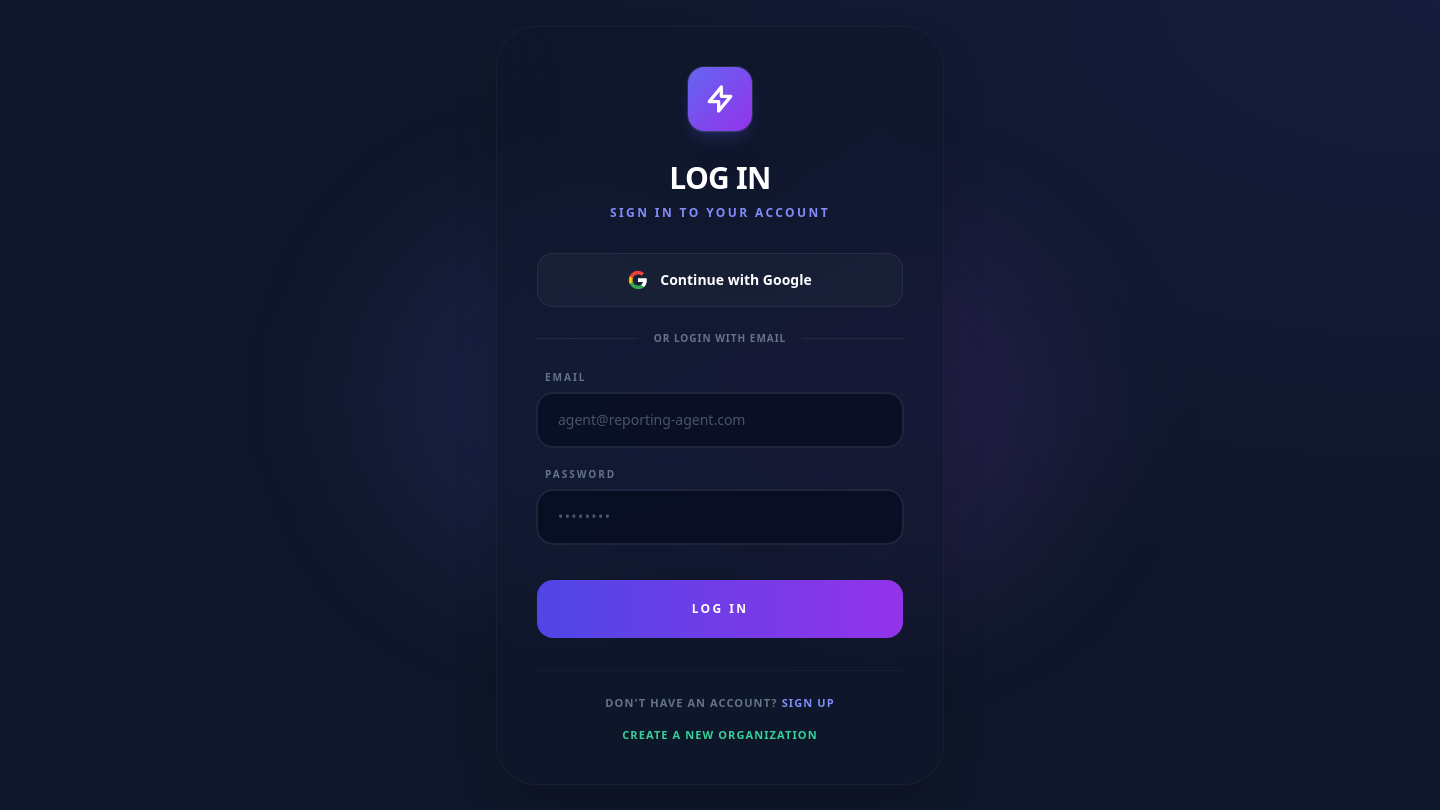
Scenario: Auth view unit tests › shows login error for invalid credentials
The width and height of the screenshot is (1440, 810).
Type "bad@test.com" into the field with placeholder "agent@reporting-agent.com" at point(720, 420), box [537,392,903,446]
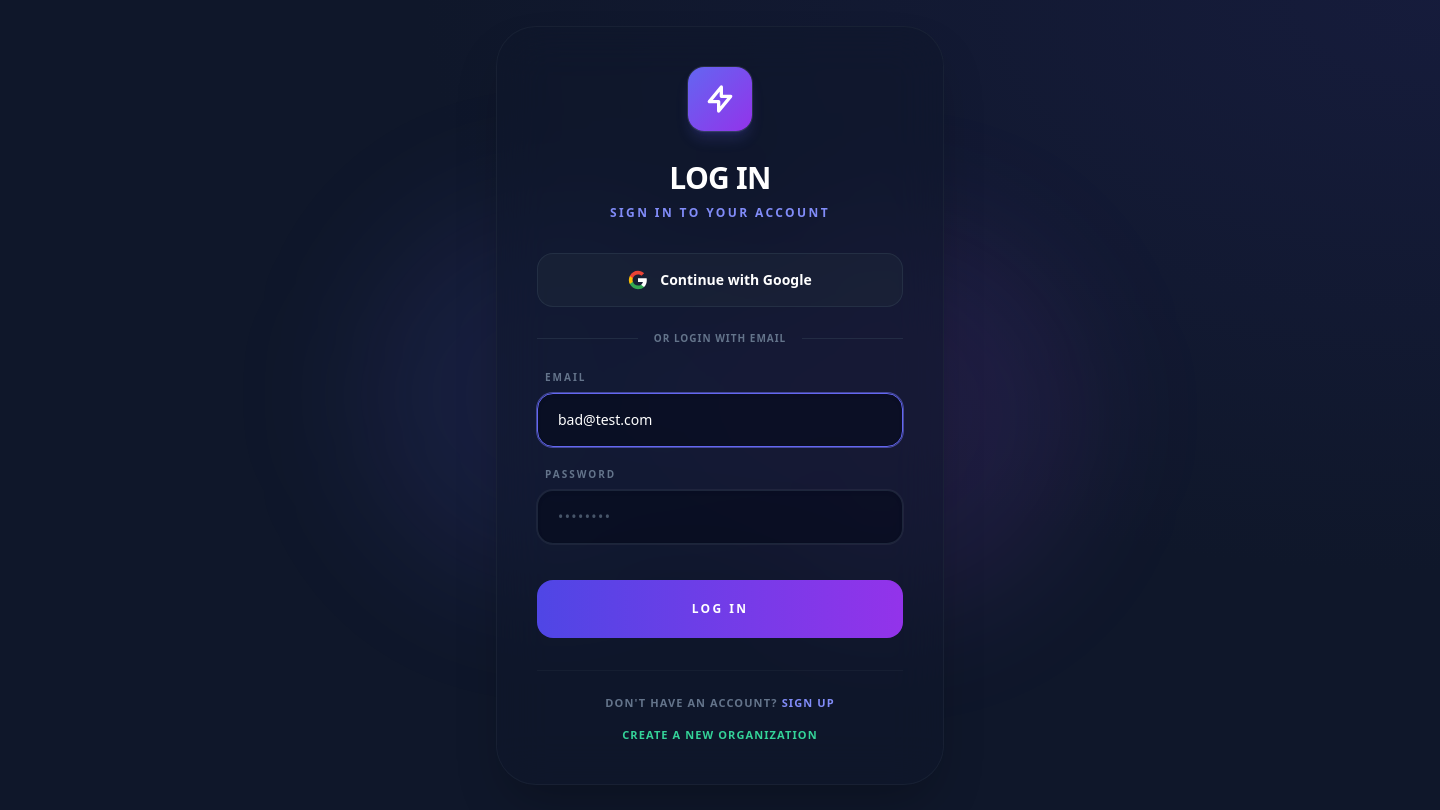
Type "wrongpass" into the password field with placeholder "••••••••" at point(720, 516), box [537,490,903,544]
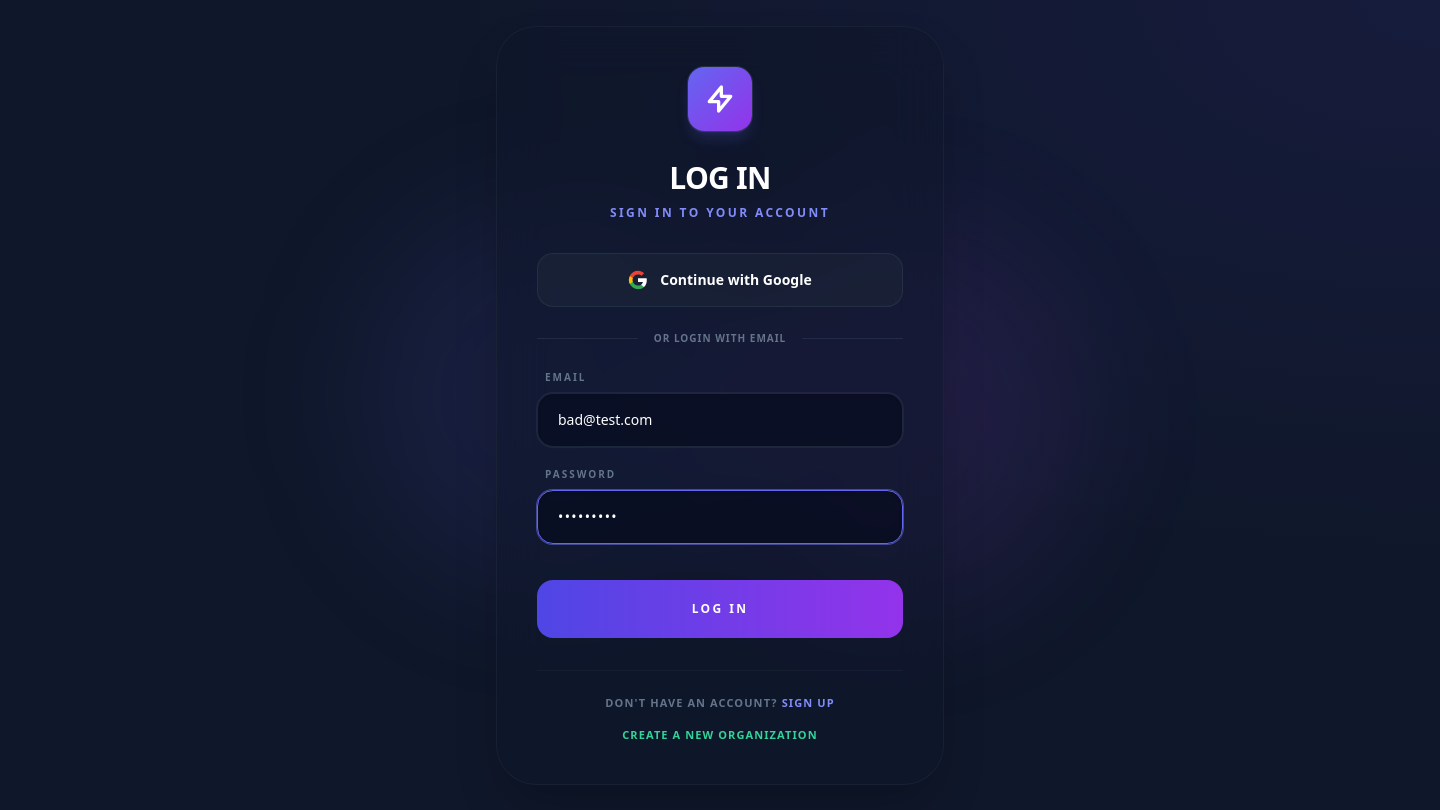
Click the button "Log In" at point(720, 608), box [537,580,903,638]
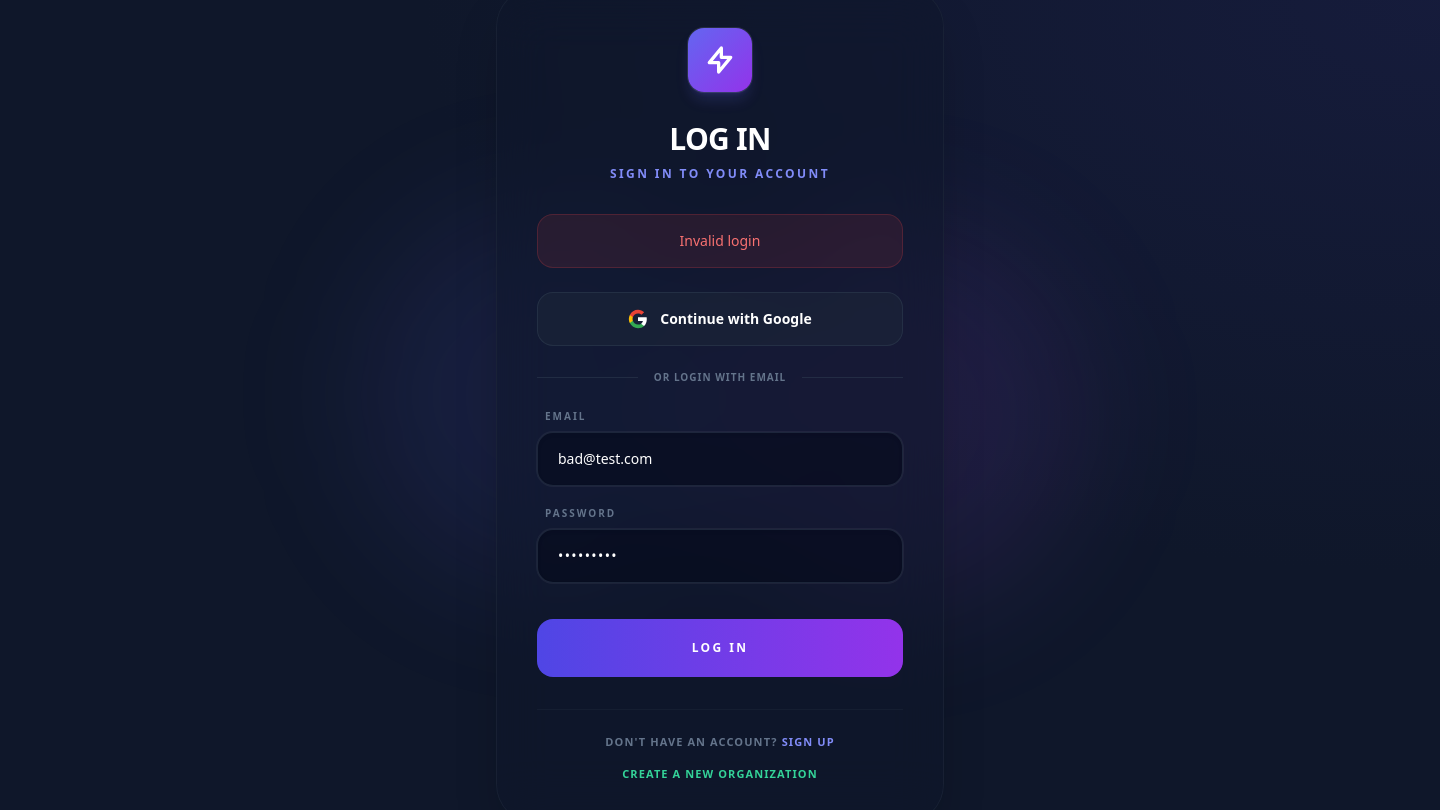
Check: the text "Invalid login" is shown, box [680,230,760,250]
